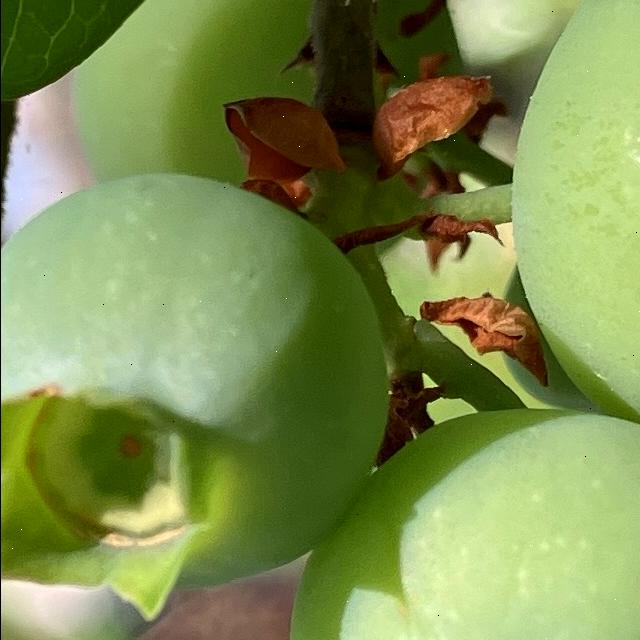Blueberries: (0, 168, 392, 618), (282, 402, 640, 640), (503, 0, 640, 466)
